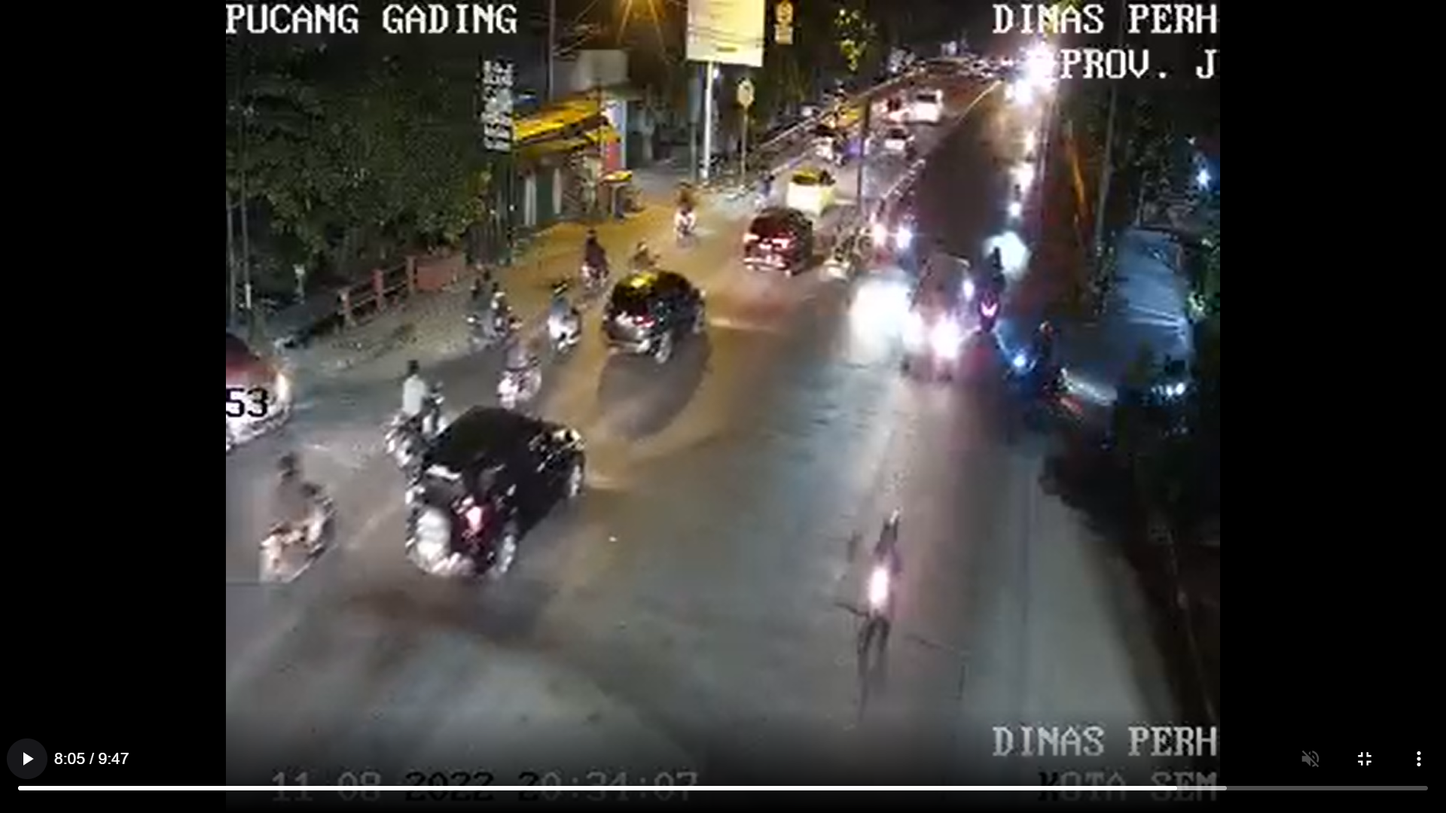with_helmet: (245, 447, 345, 592), (542, 273, 591, 360)
without_helmet: (367, 352, 459, 474)
